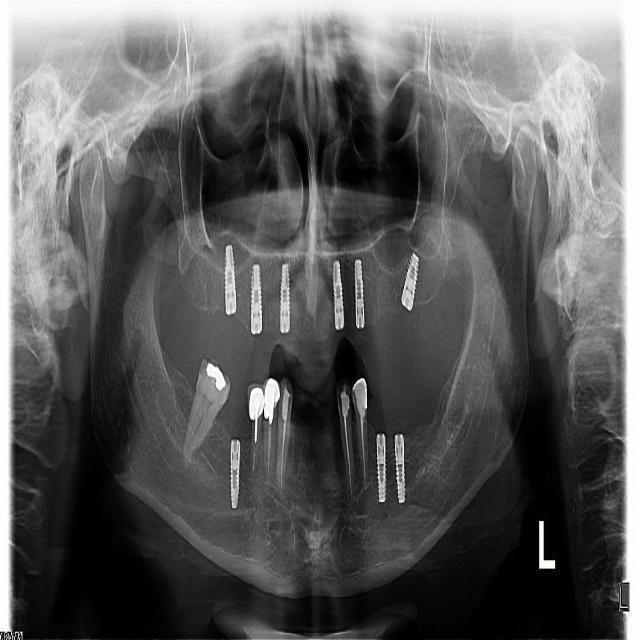Crown: (246, 380, 264, 419), (263, 377, 279, 419)
Filling: (205, 362, 226, 391), (353, 378, 367, 419), (281, 381, 289, 423), (341, 387, 350, 417)
Implant: (402, 253, 420, 311), (223, 247, 237, 312), (251, 260, 262, 332), (333, 260, 344, 328), (394, 433, 405, 501), (355, 259, 365, 329), (376, 432, 386, 500), (231, 438, 240, 509), (279, 264, 288, 329)
Root Canal Treatment: (343, 416, 352, 499), (360, 416, 366, 484), (281, 420, 286, 489), (268, 419, 271, 478), (252, 448, 255, 471)
